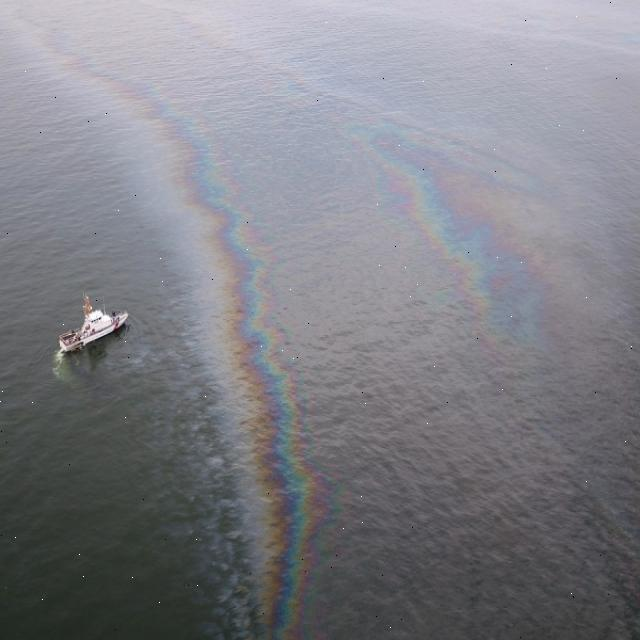rainbow: (41, 31, 329, 638), (348, 124, 573, 360)
sheen: (135, 117, 275, 629)
